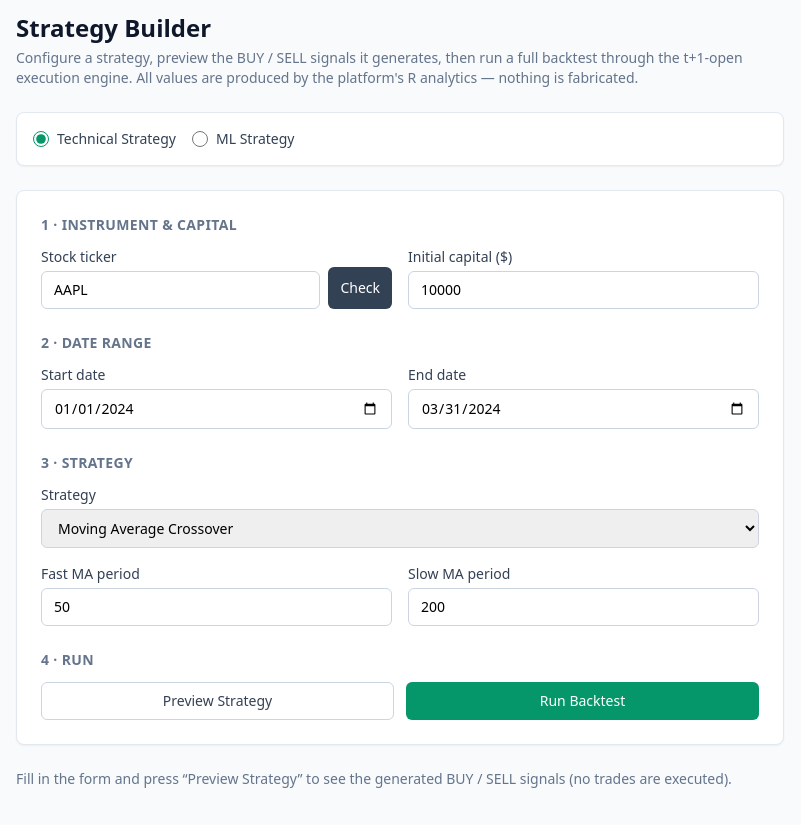
Test case: StrategyBuilderPage (Phase 4) › rejects start date after end date
In the date field labelled "Start date": (216, 409) [41,389,392,429], type "2024-06-01"
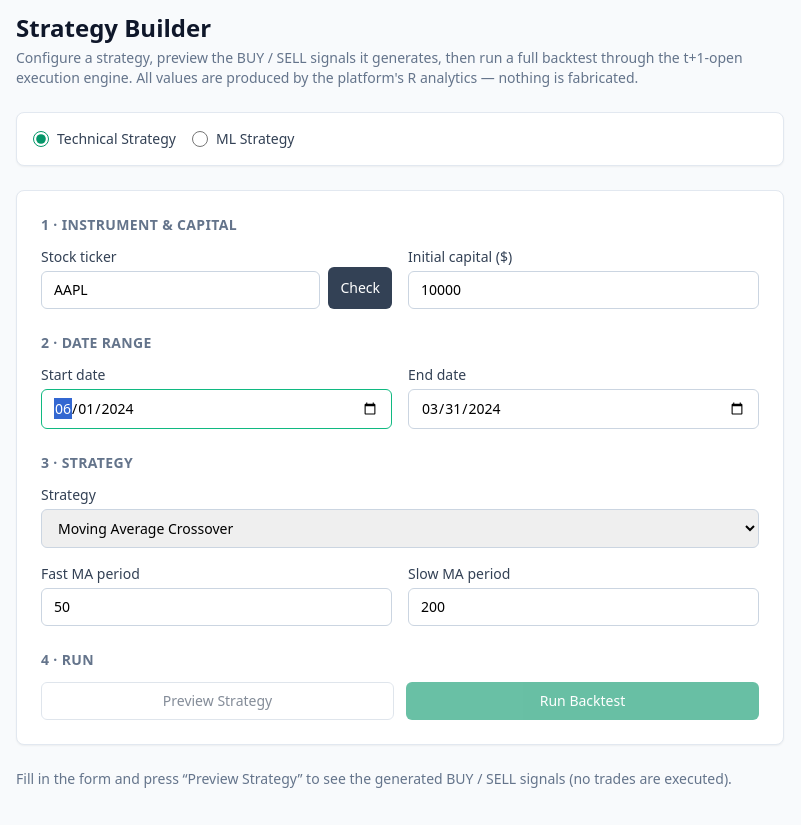
Press Tab
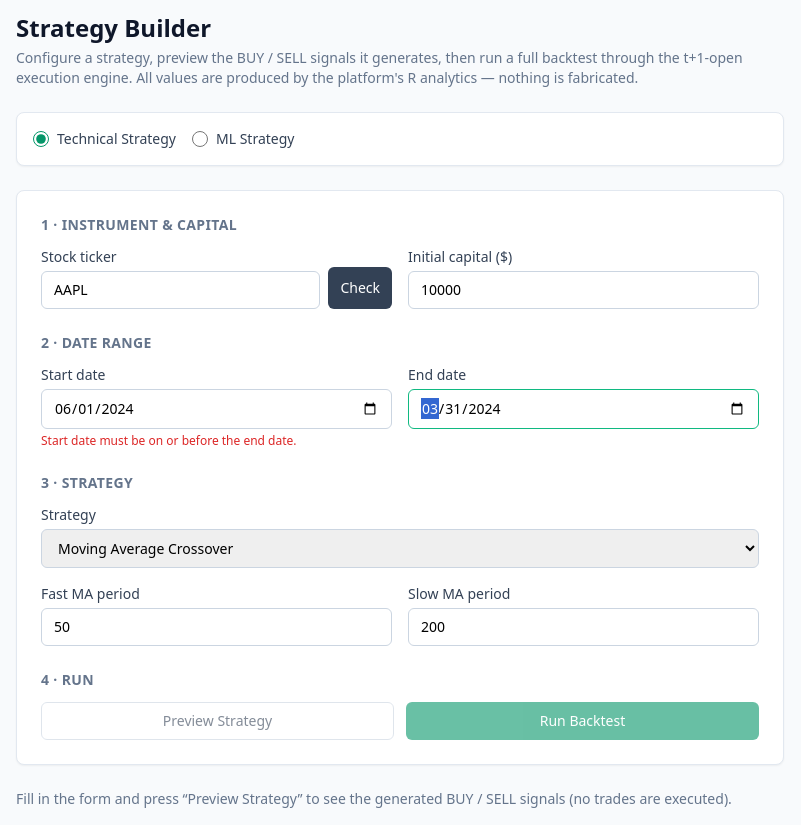
Expected: the text with test id "error-start" shows "on or before", [41,432,296,449]
